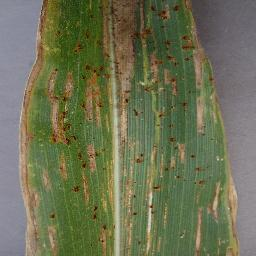Gray_Leaf_Spot: (105, 0, 224, 143), (18, 0, 106, 143), (89, 187, 170, 256), (19, 143, 145, 187), (195, 179, 245, 256), (16, 187, 58, 256), (146, 142, 188, 188), (220, 144, 236, 179), (69, 187, 89, 199), (194, 165, 205, 174), (181, 229, 188, 241), (190, 150, 196, 160)
